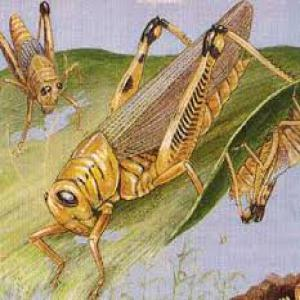locust: (46, 6, 270, 247)
